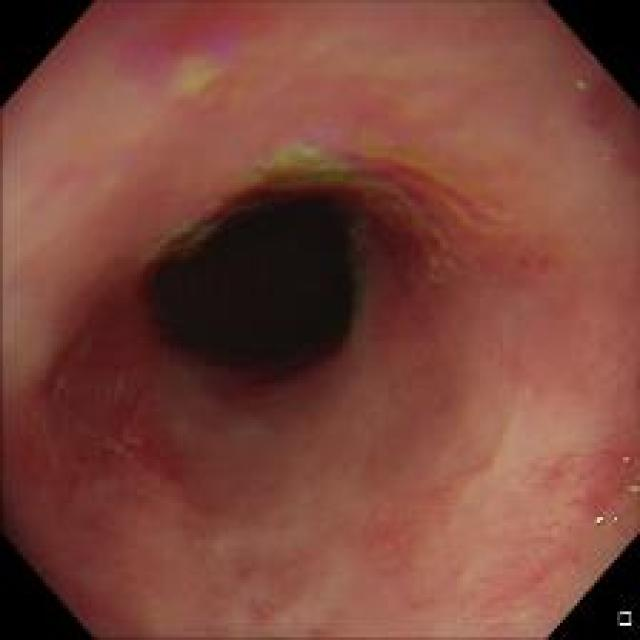color misalignment: (148, 136, 489, 290), (115, 11, 239, 96), (590, 451, 635, 525)
contrast: (138, 180, 370, 398)
